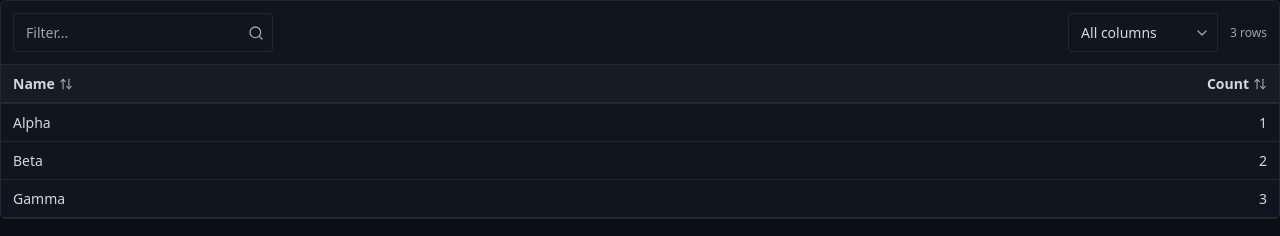
Test: Table — filter behavior › typing in the filter narrows visible rows (debounce)
Step 1. Type "alp" into the field with placeholder "Filter..." → (127,32), box top-left (14, 14), bottom-right (240, 51)
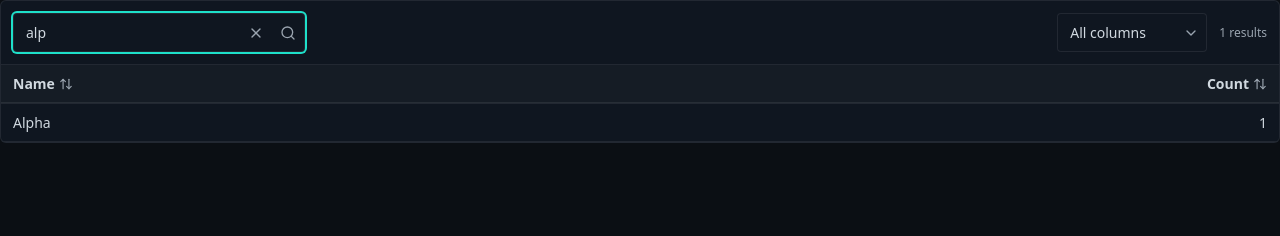
Expected: the text "Alpha" is shown, top-left (13, 113), bottom-right (51, 132)
Now the text "Beta" is gone
Now the text "Gamma" is gone
